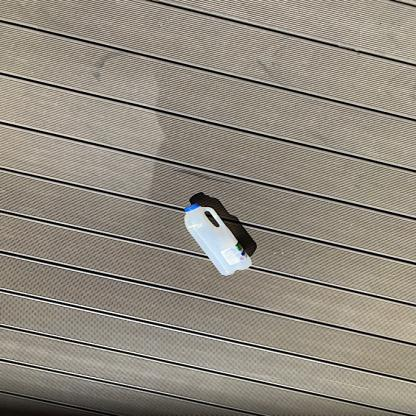trash: (182, 200, 254, 280)
